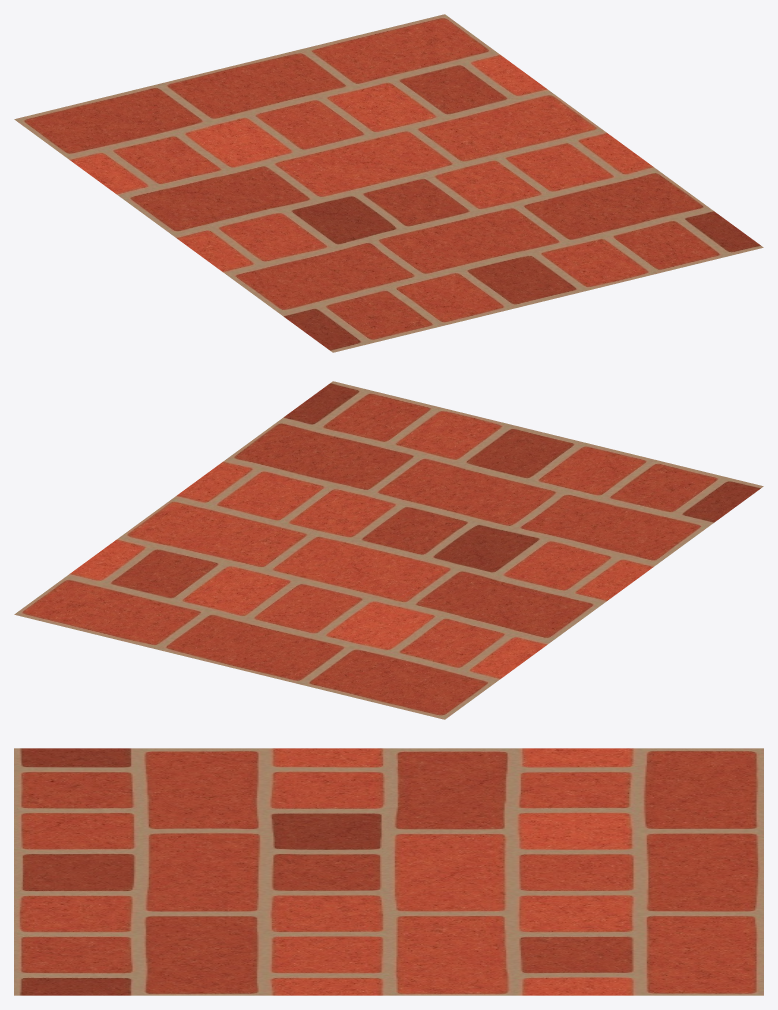
Rendered from water.obj.
The picture shows the model from 3 angles, top to bottom: view 1: azimuth 30°, elevation 25°; view 2: azimuth 150°, elevation 25°; view 3: azimuth 270°, elevation 25°; orthographic projection. The views are drawn at different scales.
Parts seen in each view (by area): view 1: Plane_Plane.002; view 2: Plane_Plane.002; view 3: Plane_Plane.002.
Boxes of the visible parts, x1,y1,x2,y2 form: Plane_Plane.002: [14, 14, 763, 352]; Plane_Plane.002: [14, 381, 763, 719]; Plane_Plane.002: [14, 748, 763, 995].
Bounding box in the file's own units: 20.57 × 0 × 26.38.
